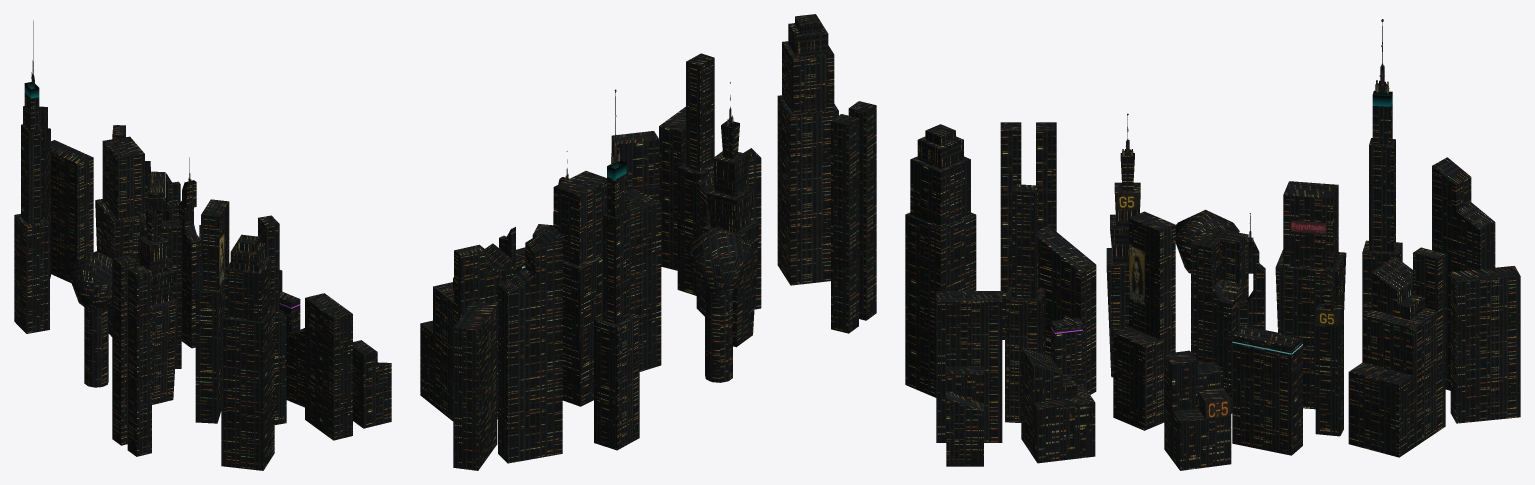
File: BackgroundBuildsMain.fbx
The picture shows the model from 3 angles, left to right: view 1: azimuth 30°, elevation 25°; view 2: azimuth 150°, elevation 25°; view 3: azimuth 270°, elevation 25°; orthographic projection. The views are drawn at different scales.
Parts seen in each view (by area): view 1: Test; view 2: Test; view 3: Test.
Boxes of the visible parts, x1,y1,x2,y2 form: Test: (14,20,391,470); Test: (420,14,876,470); Test: (905,19,1520,470).
Size of the model in its own units: 5.12 by 6.33 by 9.89.
Materials: 2 (2 with a texture image).
